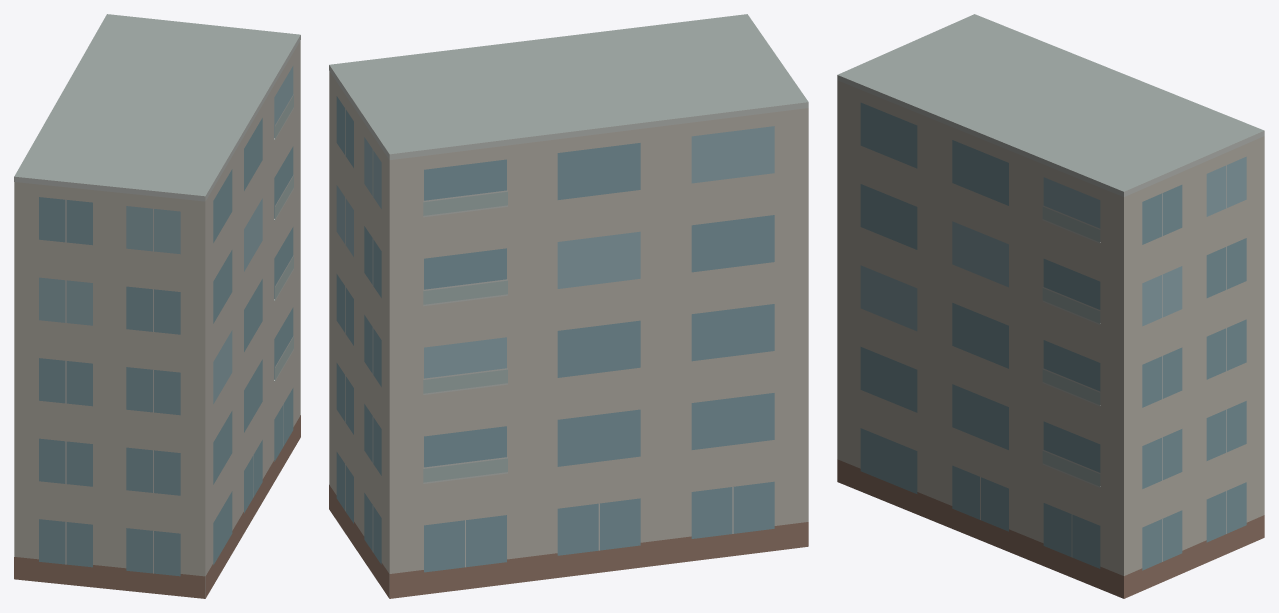
The model's file is survey-upis-32918676.glb.
3 renders of one model, left to right at view 1: azimuth 30°, elevation 25°; view 2: azimuth 150°, elevation 25°; view 3: azimuth 270°, elevation 25°, orthographic. The views are drawn at different scales.
Visible parts, largest first — view 1: survey-upis-32918676.tmp; view 2: survey-upis-32918676.tmp; view 3: survey-upis-32918676.tmp.
Boxes of the visible parts, x1,y1,x2,y2 form: survey-upis-32918676.tmp: (14,14,300,598); survey-upis-32918676.tmp: (329,14,808,598); survey-upis-32918676.tmp: (837,14,1264,598).
Bounding box in the file's own units: 17.34 × 18.5 × 17.61.
